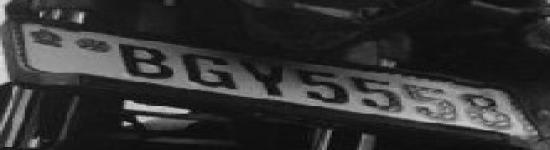5: (403, 82, 462, 123), (295, 68, 353, 108), (352, 72, 405, 115)
8: (460, 90, 519, 133)
B: (115, 40, 180, 83)
G: (180, 49, 241, 92)
Y: (239, 56, 298, 100)
